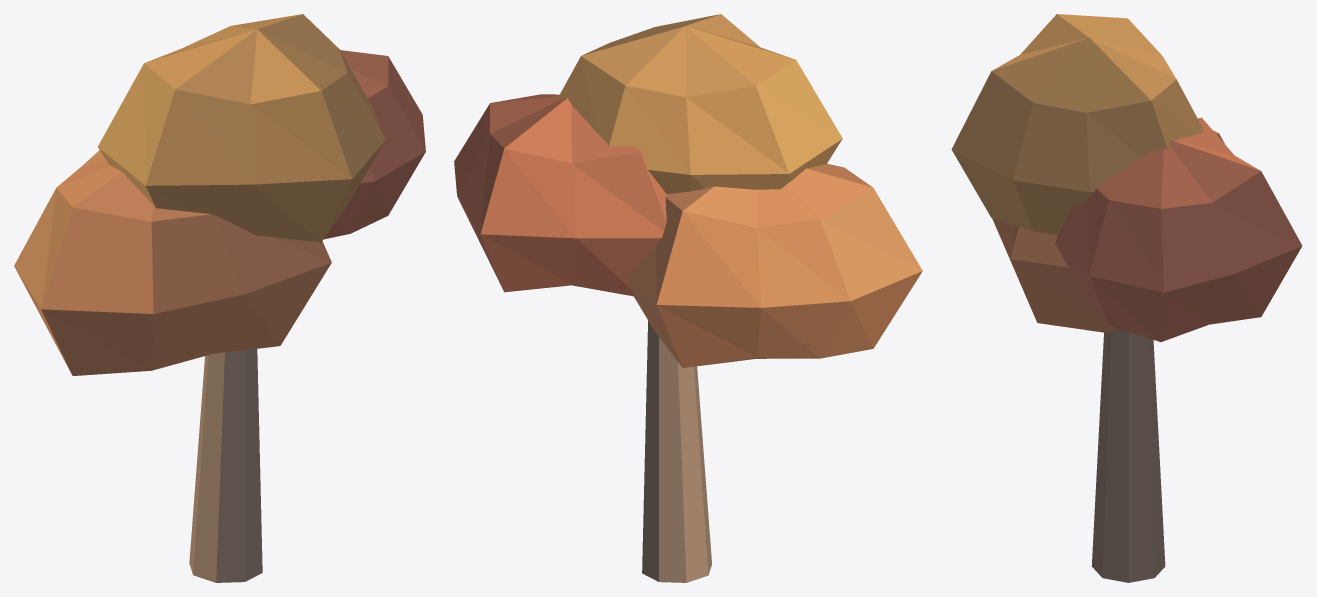
File: forage_7_autumn.glb
The picture shows the model from 3 angles, left to right: view 1: azimuth 30°, elevation 25°; view 2: azimuth 150°, elevation 25°; view 3: azimuth 270°, elevation 25°; orthographic projection. The views are drawn at different scales.
Visible parts, largest first — view 1: Rohstoff 7 · autumn; view 2: Rohstoff 7 · autumn; view 3: Rohstoff 7 · autumn.
Part boxes in pixels (x1,y1,x2,y2): Rohstoff 7 · autumn: [14, 14, 425, 582]; Rohstoff 7 · autumn: [454, 14, 922, 582]; Rohstoff 7 · autumn: [951, 14, 1302, 582].
Bounding box in the file's own units: 2.75 × 3.32 × 1.97.
